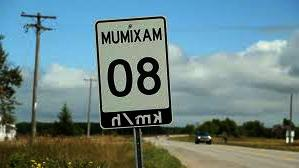speed limit sign: (96, 15, 172, 130)
